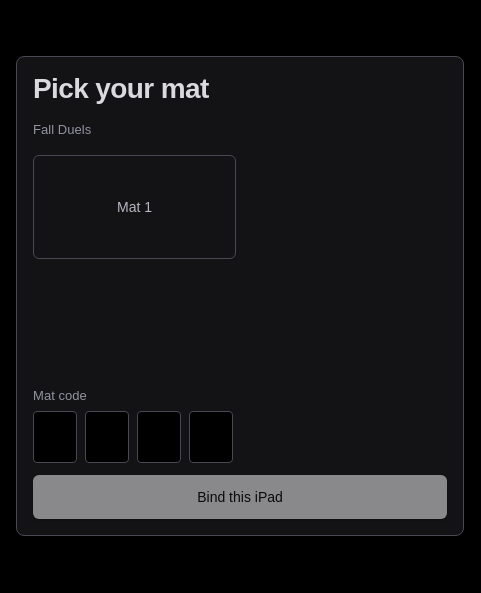
Test: MatPickPage › surfaces a rejected wake lock honestly instead of failing silently
Expected: the text "Screen may sleep" is not shown
Click the field labelled "Mat code" at (55, 437), box [33, 411, 77, 463]
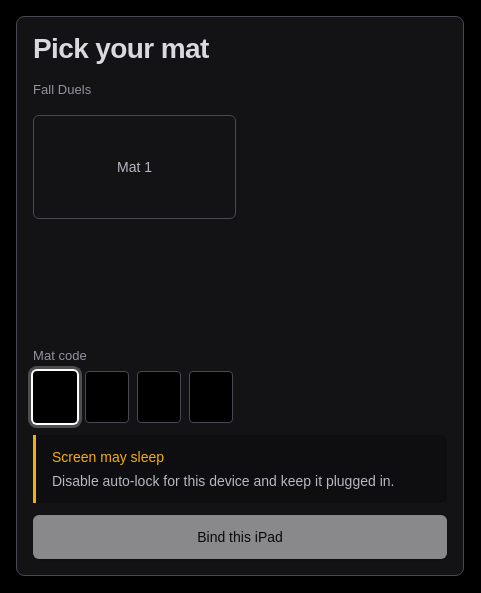
Now the text "Screen may sleep" is shown, box [52, 449, 164, 465]
Now the text "Disable auto-lock for this device and keep it plugged in." is shown, box [52, 471, 431, 491]
